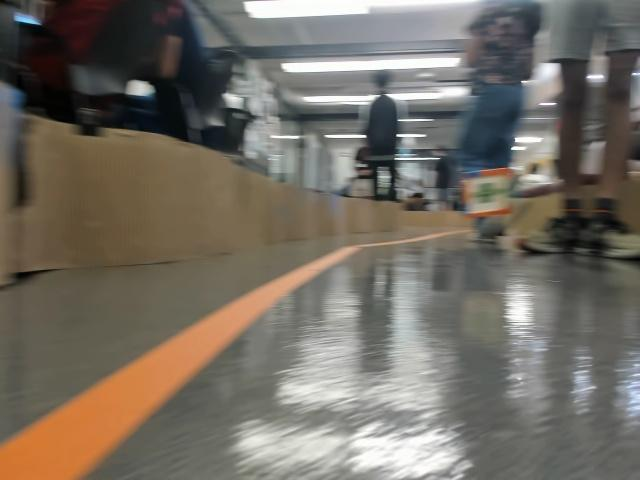Go Around: (472, 183, 503, 204)
